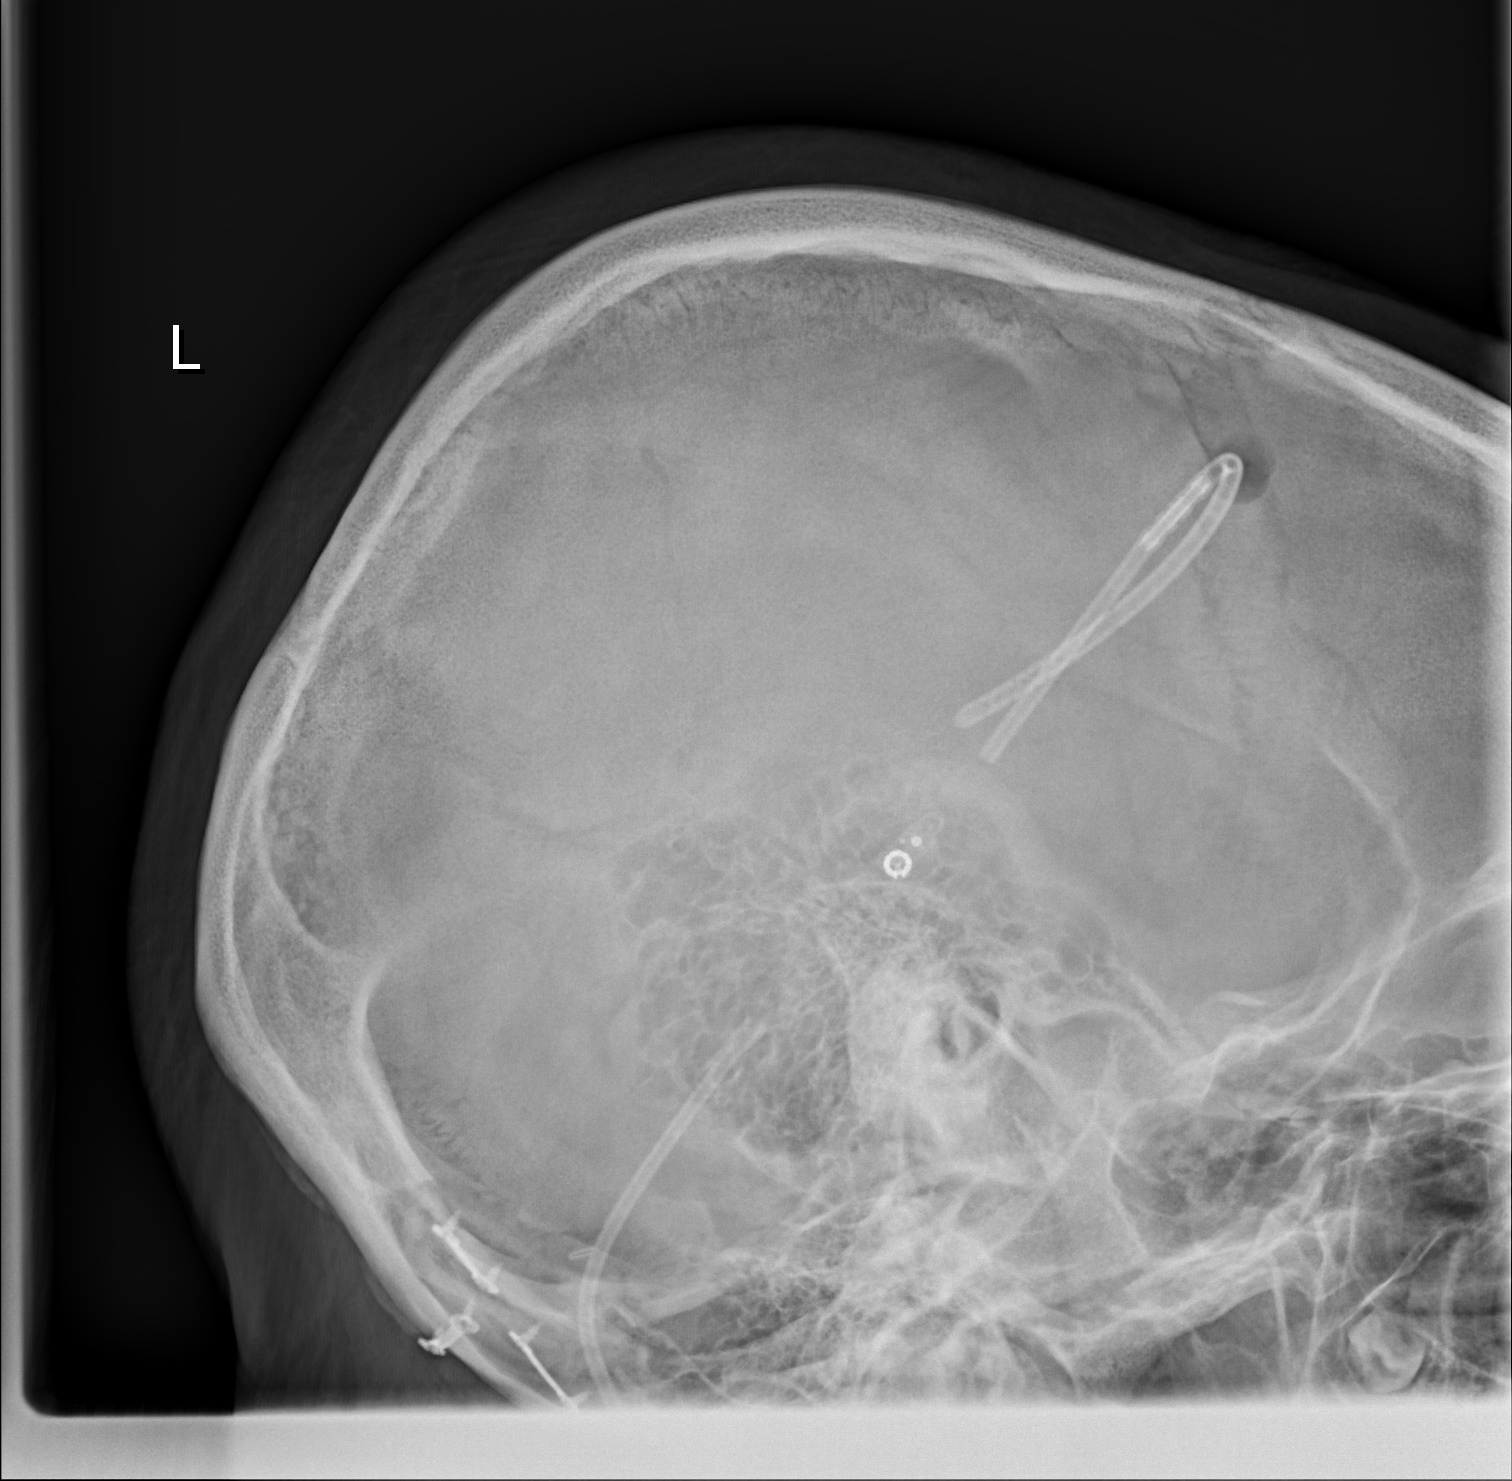Codman Hakim: (872, 808, 952, 896)
